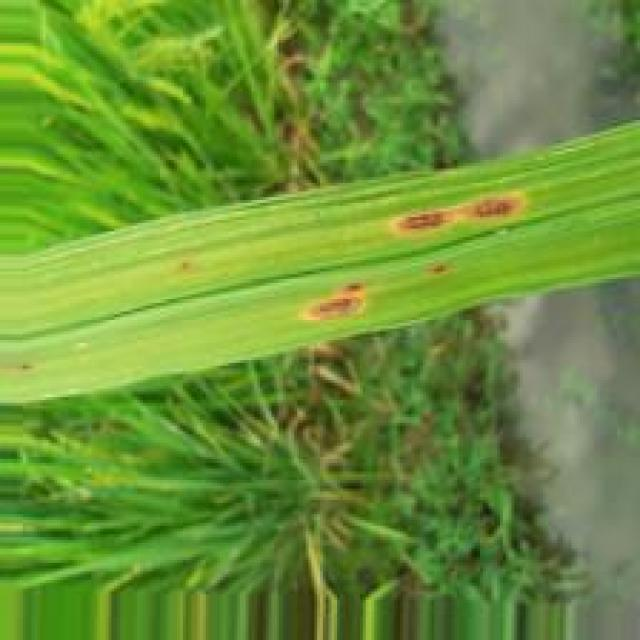Narrow_Brown_Leaf_Spot: (372, 184, 544, 244), (290, 277, 376, 325), (427, 260, 451, 280), (9, 362, 31, 378), (175, 262, 194, 275)
